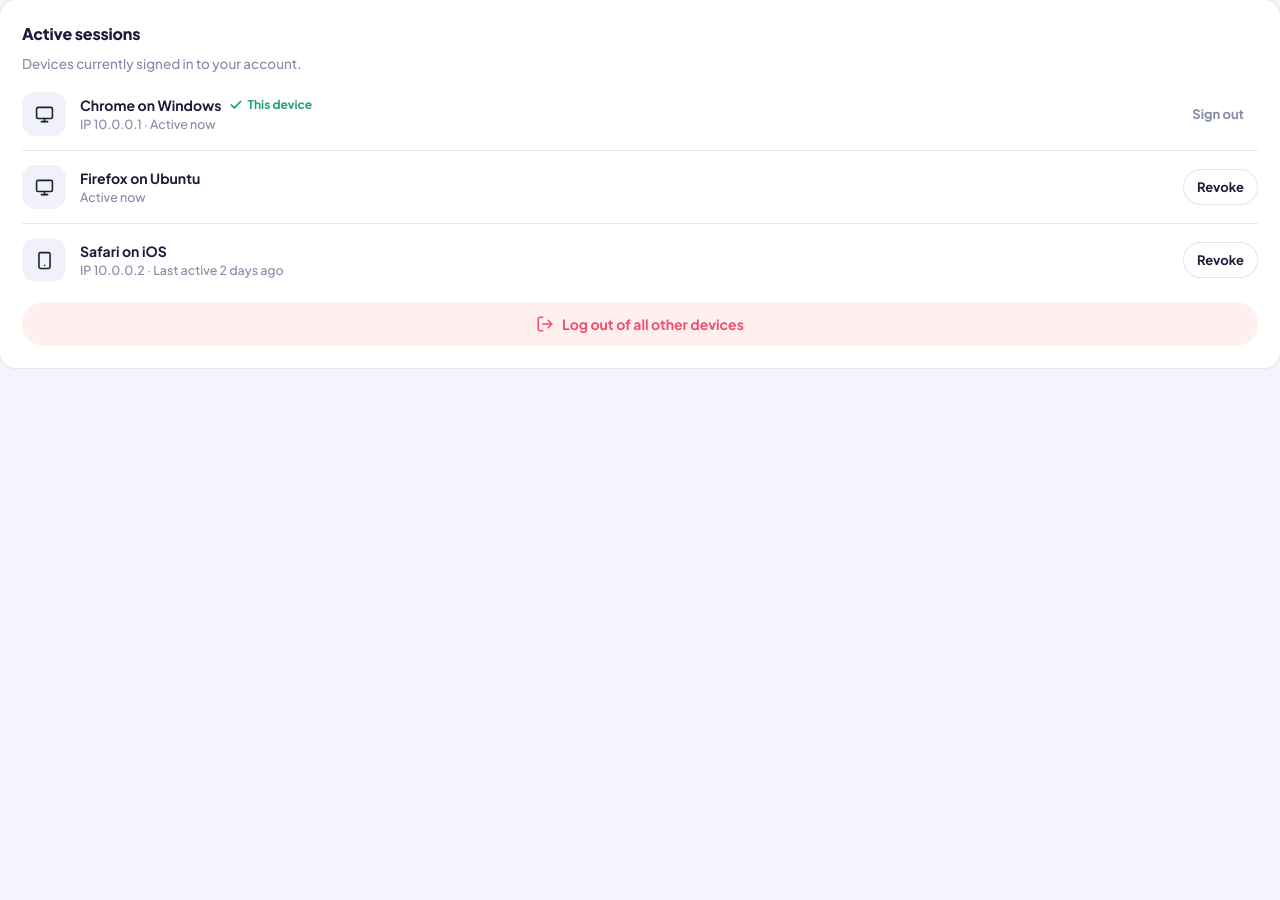
SessionsCard › revokes every other session after confirmation
Step 1. Click the button "Log out of all other devices" → (640, 324), box [22,302,1258,346]
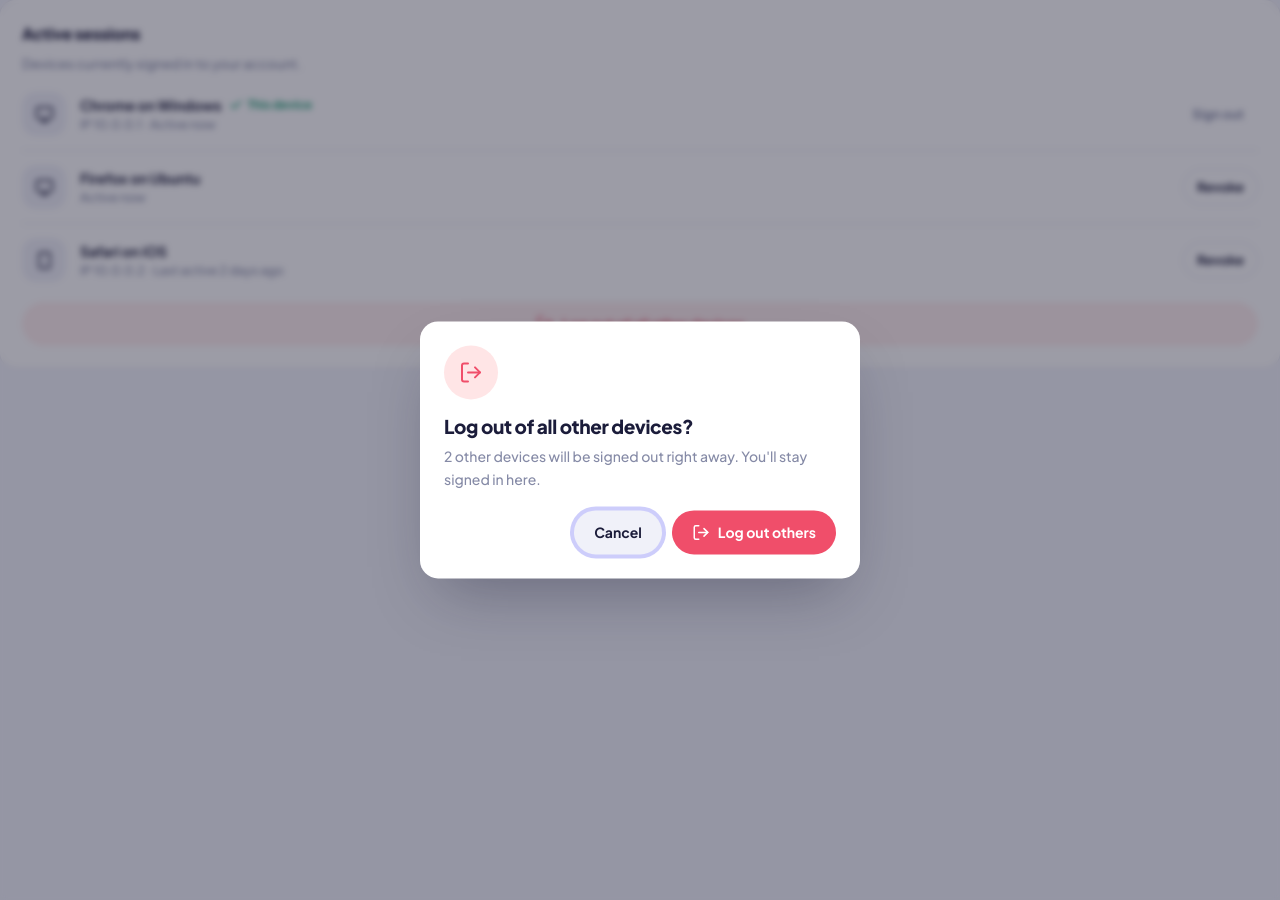
Step 2. Click the button "Log out others" → (754, 533), box [672,511,836,555]
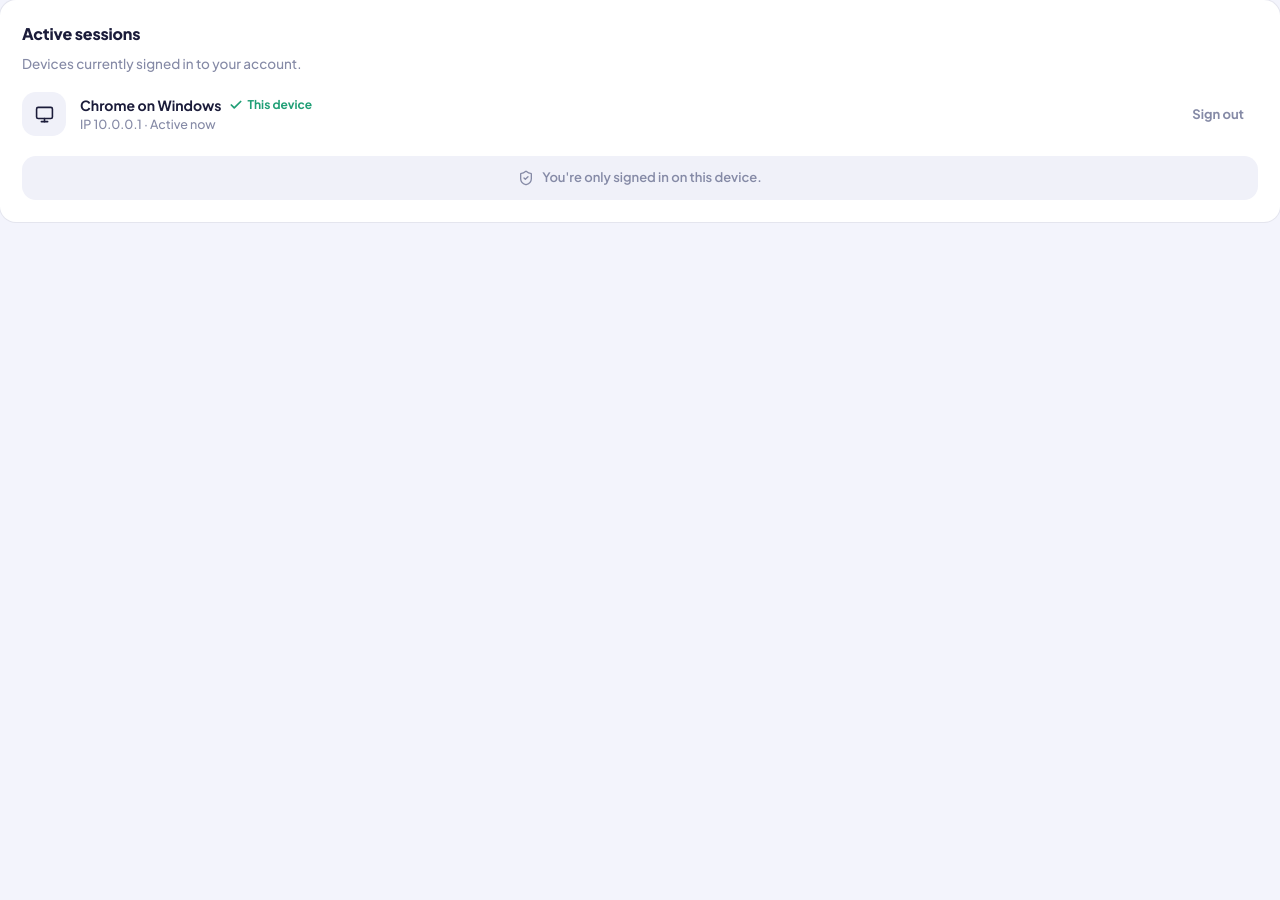
expect the text "You're only signed in on this device." is shown: met, box [22,156,1258,200]
